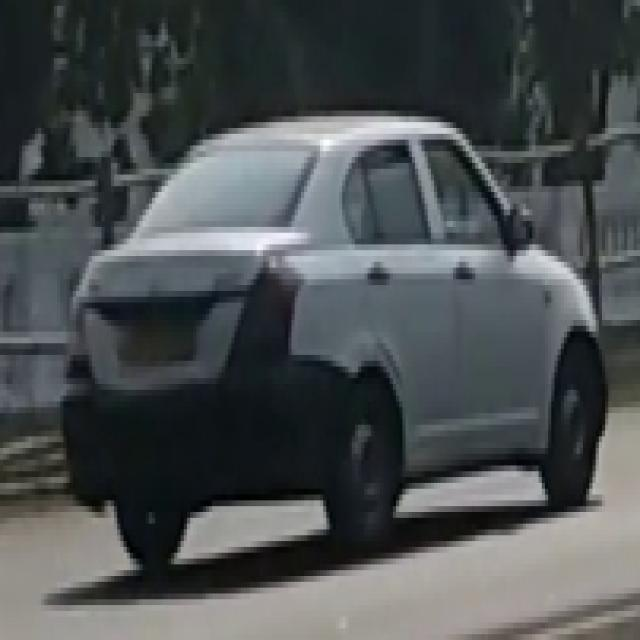car: (61, 110, 608, 564)
